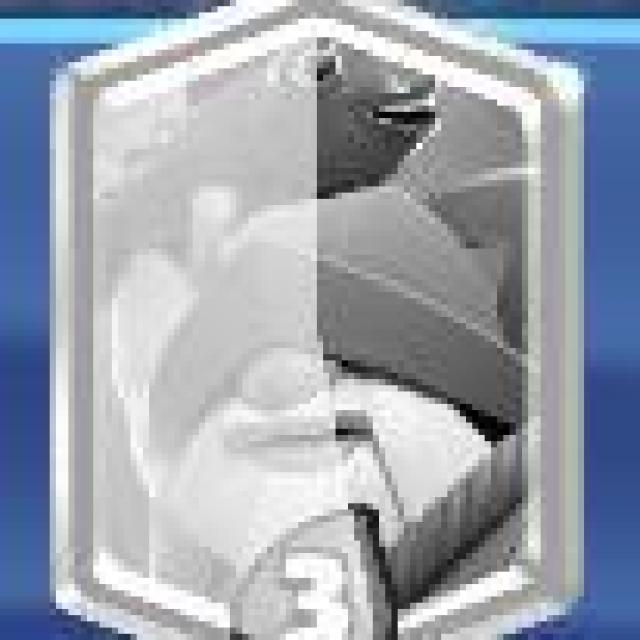Fisherman: (47, 0, 580, 640)
